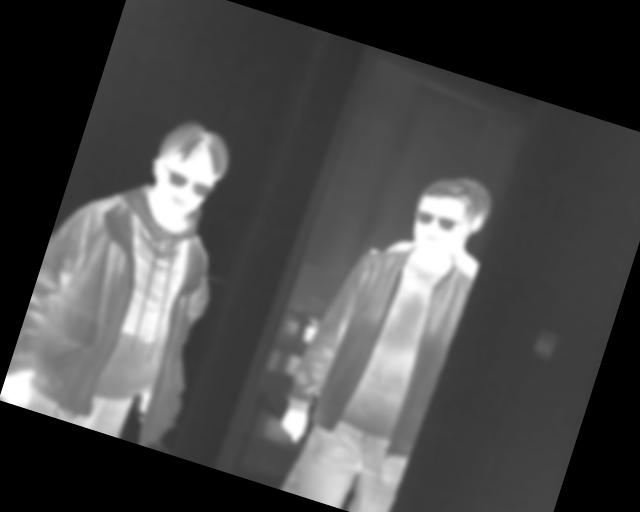face: (138, 111, 237, 227), (403, 170, 484, 268)
